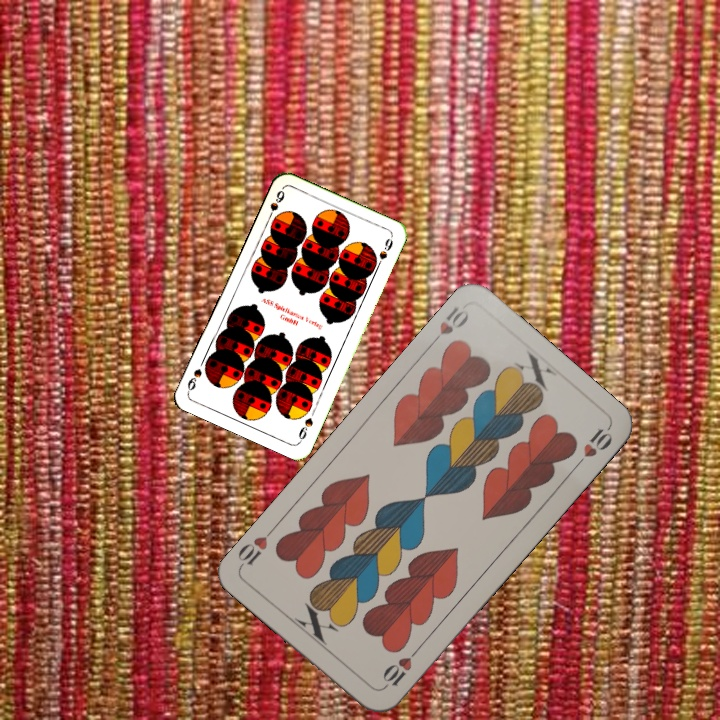H10: (425, 302, 472, 350), (378, 644, 422, 692)
S9: (263, 186, 287, 224), (294, 413, 316, 445)
